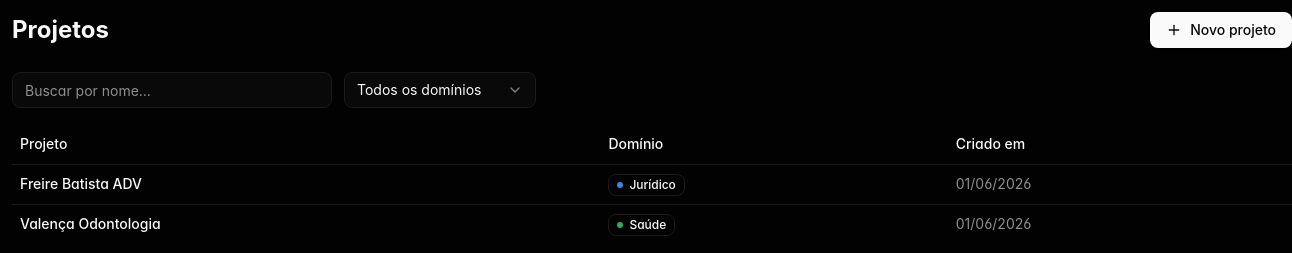
ProjectsListPage › filters by search text
Expected: the text "Freire Batista ADV" is shown, x1=12 y1=164 x2=600 y2=204
In the field with placeholder "Buscar por nome…": point(172, 90) x1=12 y1=72 x2=332 y2=108, type "valen"
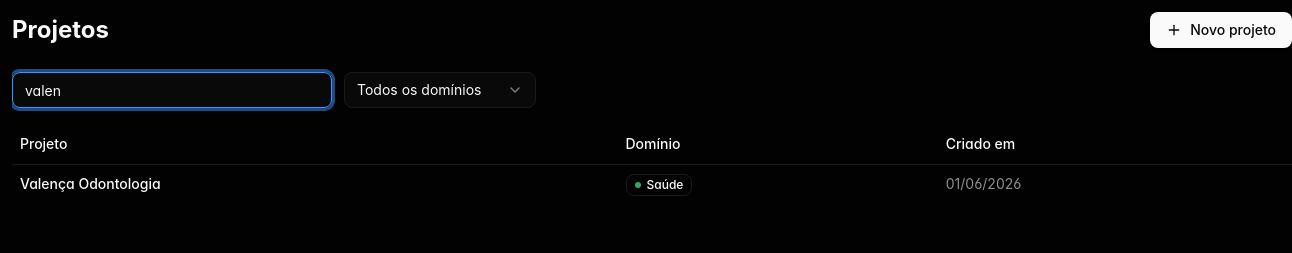
Expected: the text "Valença Odontologia" is shown, x1=12 y1=164 x2=618 y2=204
Result: the text "Freire Batista ADV" is gone
